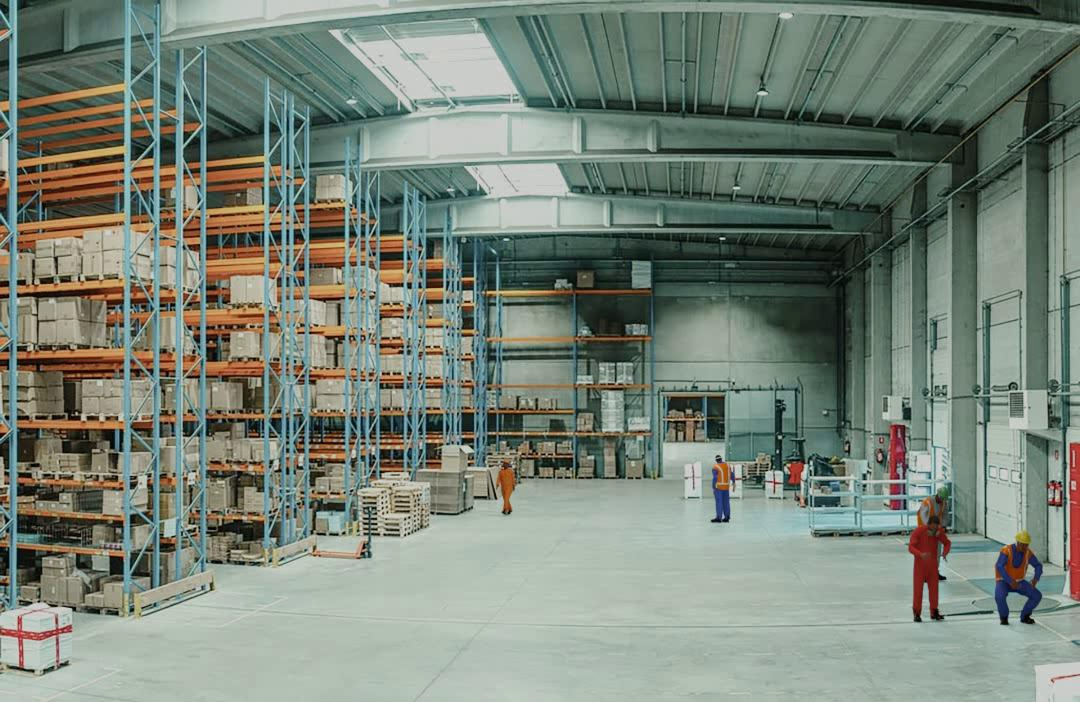Helmet: (1014, 528, 1035, 545), (936, 487, 951, 498), (502, 459, 510, 463)
Jacket: (998, 547, 1032, 581), (925, 499, 948, 529), (713, 464, 731, 490)
Shoes: (1019, 614, 1036, 624), (912, 609, 924, 622), (930, 609, 944, 620), (1000, 612, 1010, 625), (710, 517, 722, 523), (722, 517, 730, 522), (507, 509, 512, 514), (502, 509, 506, 514)
